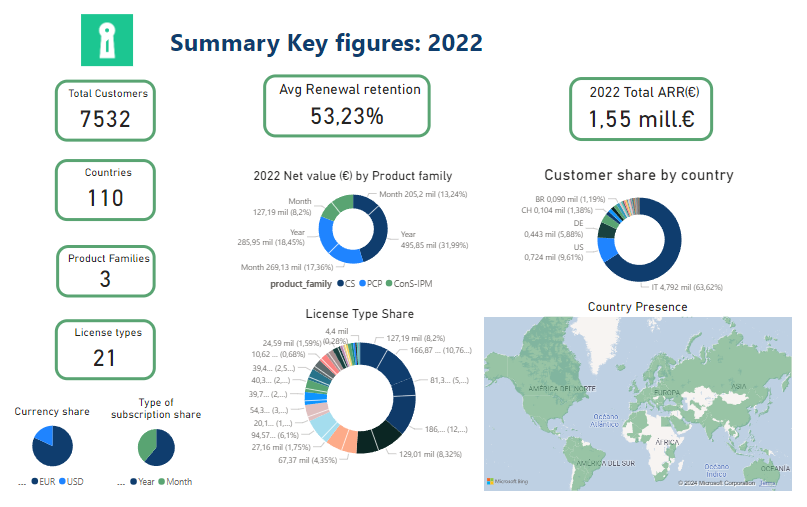

The page's visual inventory and layout, read from the dashboard file:
{"tool":"powerbi","page":{"name":"Summary","canvas":[1280,920],"ordinal":1},"visuals":[{"type":"card","title":"Total Customers","fields":{"Values":["users.Medida"]},"box":[118.6,130.9,155,95],"z":1000},{"type":"card","title":"Countries","fields":{"Values":["users.Total Countries"]},"box":[118.6,252.6,155,95],"z":2000},{"type":"card","title":"Product Families","fields":{"Values":["subscriptions.Total Products"]},"box":[120.5,384.2,152.9,80.7],"z":3000},{"type":"card","title":"License types","fields":{"Values":["subscriptions.Total Licenses"]},"box":[118.6,497.6,155,93.3],"z":4000},{"type":"filledMap","title":"Country Presence","fields":{"Category":["users.country_code"]},"box":[772.9,467.1,482.9,298.6],"z":5000},{"type":"card","title":"Avg Renewal retention","fields":{"Values":["subscriptions_renewals.% Renewal"]},"box":[438.6,122.9,257.1,97.1],"z":6000},{"type":"donutChart","title":"Customer share by country","fields":{"Category":["users.country_code"],"Y":["CountNonNull(users.id)"]},"box":[784.2,261.1,463.3,201.7],"z":7000},{"type":"card","title":"2022 Total ARR(€)","fields":{"Values":["subscriptions.2022 Net value"]},"box":[908.6,125.7,221.4,98.6],"z":8000},{"type":"donutChart","title":"2022 Net value (€) by Product family","fields":{"Category":["subscriptions.product_family"],"Y":["subscriptions.2022 Net value"],"Series":["subscriptions.period"]},"box":[357.1,265.1,435.7,195.7],"z":9000},{"type":"donutChart","title":"License Type Share","fields":{"Category":["subscriptions.license_type"],"Y":["subscriptions.2022 Net value"],"Series":["subscriptions.period"]},"box":[407.1,477.1,357.1,261.4],"z":10000},{"type":"pieChart","title":"Currency share","fields":{"Y":["subscriptions.2022 Net value"],"Category":["subscriptions.currency"]},"box":[41.4,629.5,144.3,135.7],"z":11000},{"type":"pieChart","title":"Type of subscription share","fields":{"Y":["subscriptions.2022 Net value"],"Category":["subscriptions.period"]},"box":[196.7,615.4,155,150],"z":12000},{"type":"textbox","box":[290,40,948.6,60],"z":13000},{"type":"image","box":[145,24,105,90],"z":13001}]}

Visuals, with their boxes on the page's 1280x920 design canvas (x1, y1, x2, y2). These are canvas units, not pixel positions in the 807x507 screenshot, which may show the page scaled, cropped or inside an application window:
"Total Customers" card: 119 131 274 226
"Countries" card: 119 253 274 348
"Product Families" card: 120 384 273 465
"License types" card: 119 498 274 591
"Country Presence" filledMap: 773 467 1256 766
"Avg Renewal retention" card: 439 123 696 220
"Customer share by country" donutChart: 784 261 1248 463
"2022 Total ARR(€)" card: 909 126 1130 224
"2022 Net value (€) by Product family" donutChart: 357 265 793 461
"License Type Share" donutChart: 407 477 764 738
"Currency share" pieChart: 41 630 186 765
"Type of subscription share" pieChart: 197 615 352 765
textbox: 290 40 1239 100
image: 145 24 250 114
